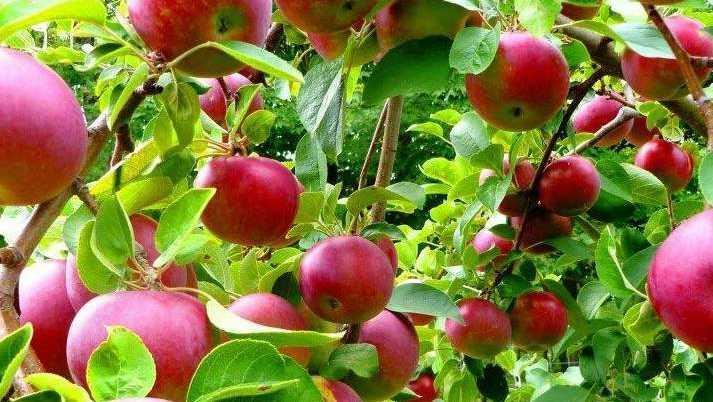apple: (65, 290, 212, 400), (1, 47, 87, 203), (465, 34, 570, 132), (17, 256, 101, 377), (195, 155, 301, 250), (646, 207, 712, 357), (123, 1, 266, 65), (296, 234, 395, 325), (618, 21, 712, 98), (346, 308, 419, 390), (218, 292, 309, 341), (532, 158, 601, 216), (445, 299, 513, 357), (505, 294, 569, 348), (160, 262, 198, 288)
